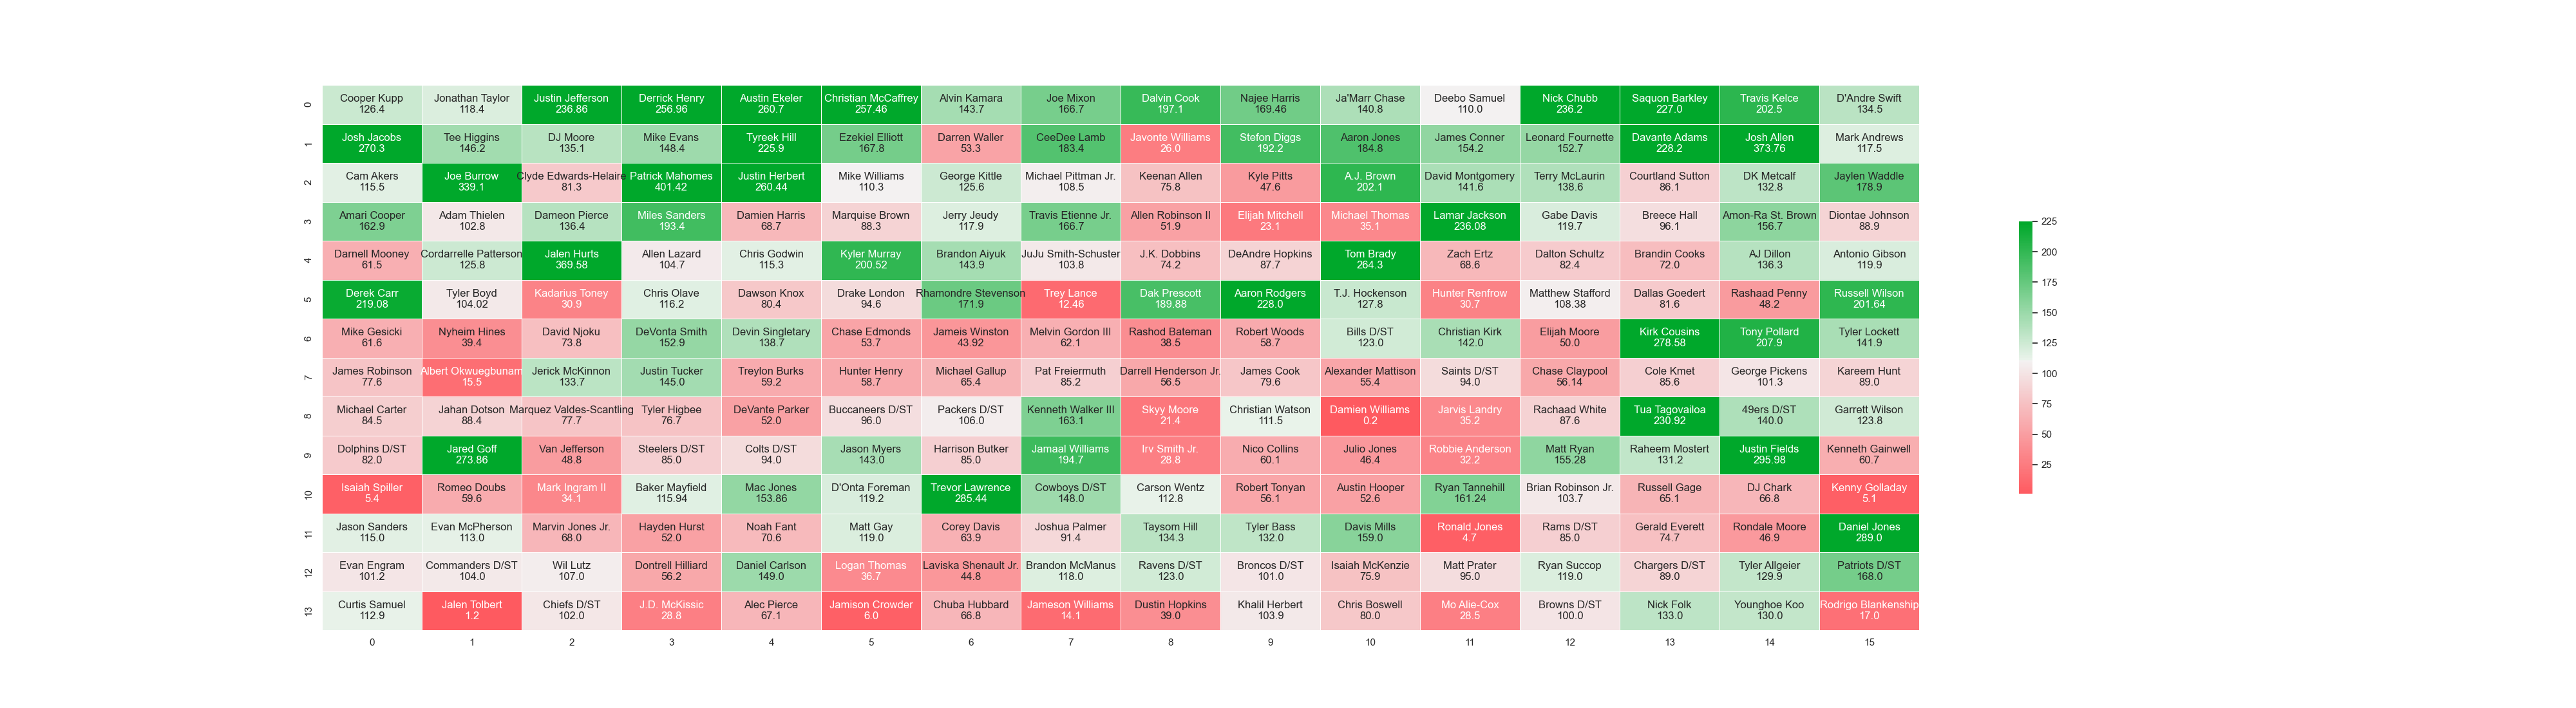

This screenshot's page, from the dashboard's own definition file:
{"tool":"powerbi","page":{"name":"Page 3","canvas":[1280,720],"ordinal":2},"visuals":[{"type":"pivotTable","fields":{"Rows":["Query1.round","Query1.playername"],"Columns":["Query1.pick"],"Values":["Sum(Query1.total)"]},"box":[0,0,1280,720],"z":1}]}

Visuals, with their boxes on the page's 1280x720 design canvas (x1, y1, x2, y2). These are canvas units, not pixel positions in the 2576x708 screenshot, which may show the page scaled, cropped or inside an application window:
pivotTable - Query1.round x Query1.playername: <bbox>0, 0, 1280, 720</bbox>
